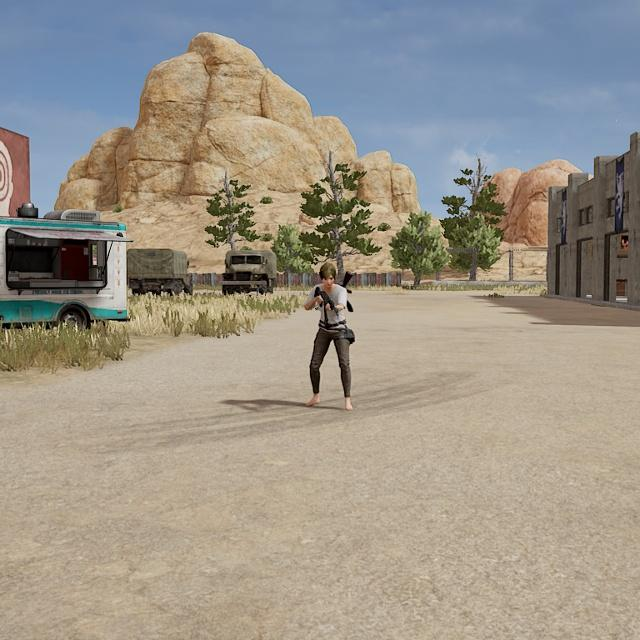head: (319, 262, 337, 288)
people: (303, 261, 354, 413)
